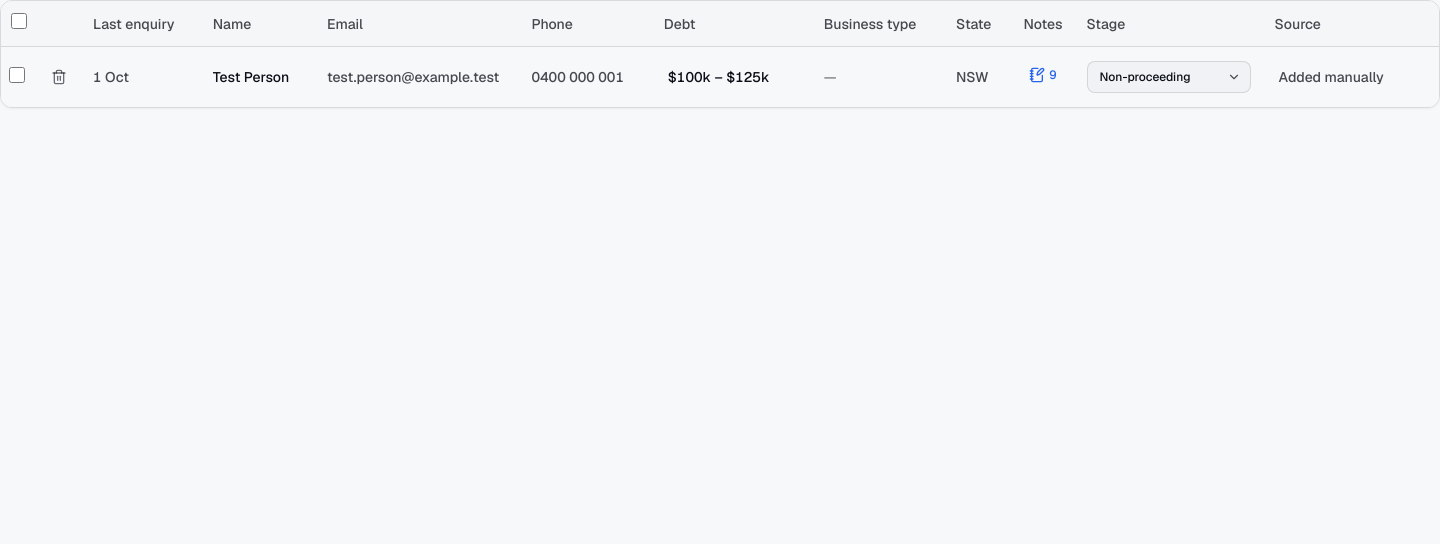
Test: the notes tooltip › lists every note as a bullet, with its date and author
Hover over the element showing "9" at (1043, 74), box [1029,66,1057,82]
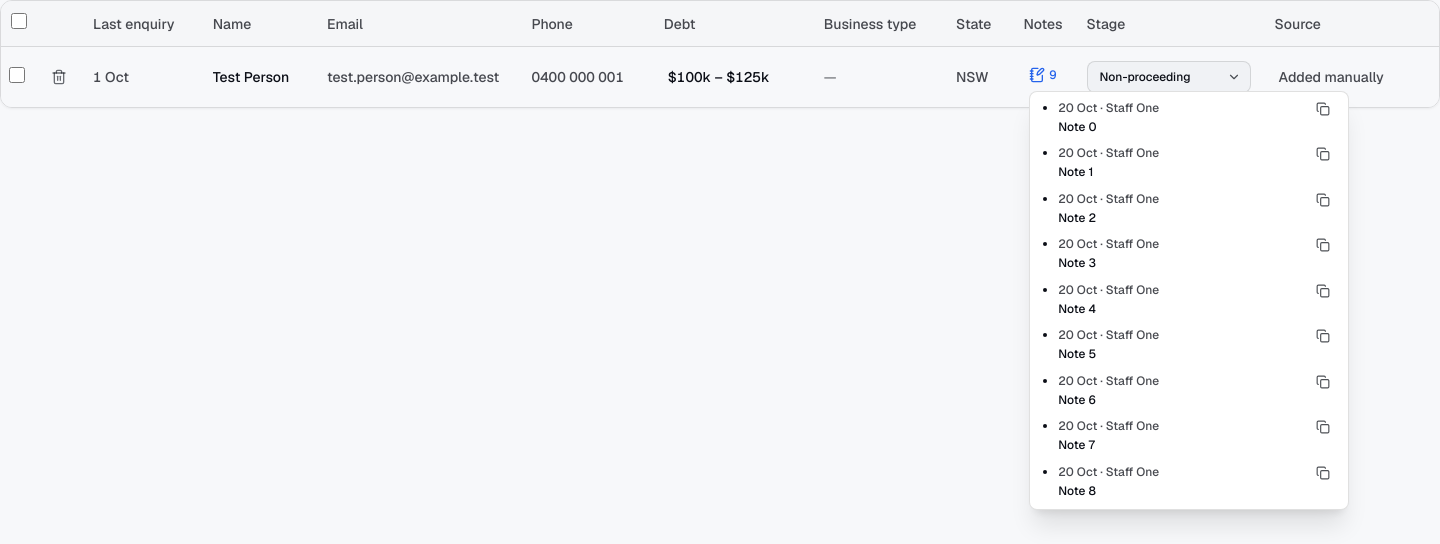
Now the number of list items is 9
Now the list item "20 Oct · Staff One Note 0" is shown, box [1058,96,1336,137]
Now the list item "20 Oct · Staff One Note 8" is shown, box [1058,460,1336,501]
